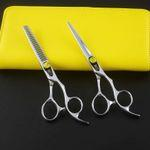scissor: (28, 12, 140, 130)
